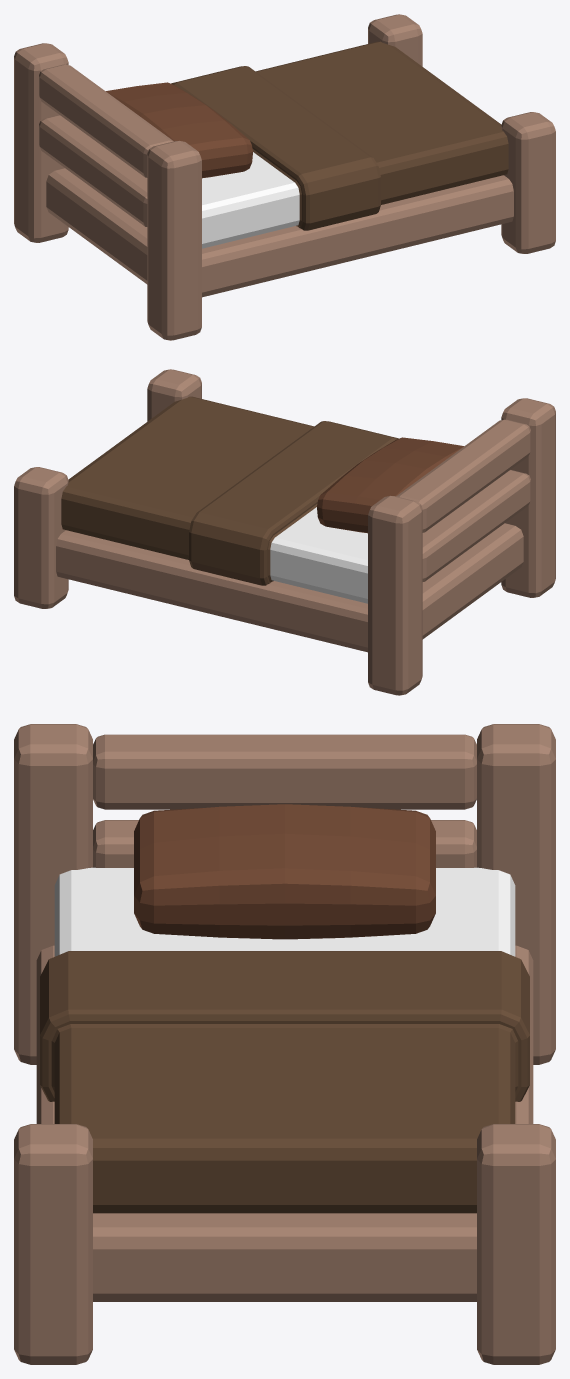
The model's file is Bed1.fbx.
3 renders of one model, top to bottom at view 1: azimuth 30°, elevation 25°; view 2: azimuth 150°, elevation 25°; view 3: azimuth 270°, elevation 25°, orthographic. The views are drawn at different scales.
Parts seen in each view (by area): view 1: lpbns_br_bed; view 2: lpbns_br_bed; view 3: lpbns_br_bed.
Boxes of the visible parts, x1,y1,x2,y2 form: lpbns_br_bed: (14, 14, 555, 340); lpbns_br_bed: (14, 369, 555, 695); lpbns_br_bed: (14, 724, 555, 1364).
Size of the model in its own units: 2.59 by 1.78 by 1.16.
